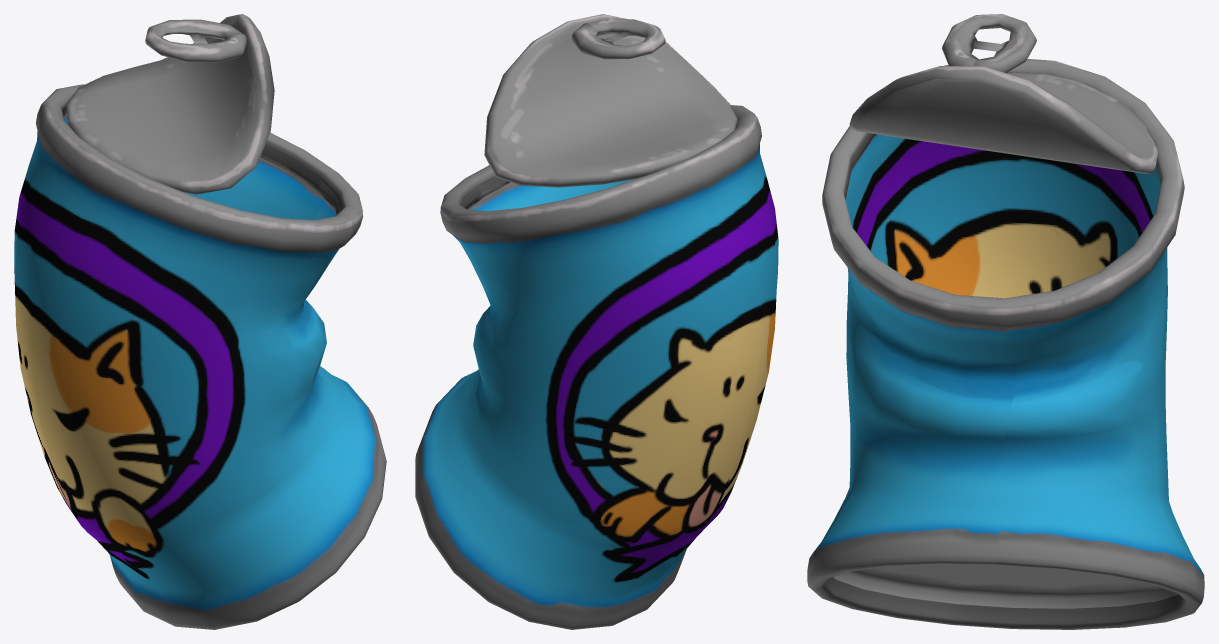
File: can.fbx
3 views of the same model, side by side, from view 1: azimuth 30°, elevation 25°; view 2: azimuth 150°, elevation 25°; view 3: azimuth 270°, elevation 25° (orthographic). The views are drawn at different scales.
Visible parts, largest first — view 1: can; view 2: can; view 3: can.
Boxes of the visible parts, left/top/right/bottom form: can: left=14, top=14, right=386, bottom=629; can: left=415, top=14, right=778, bottom=629; can: left=807, top=14, right=1204, bottom=629.
Size of the model in its own units: 153 by 265 by 155.
